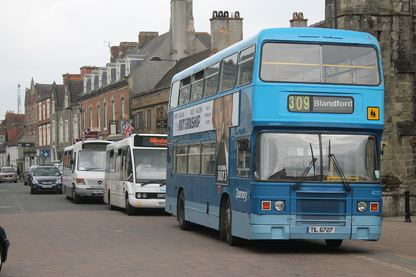bus: (164, 28, 389, 248), (101, 133, 169, 215), (62, 140, 117, 202)
car: (29, 164, 62, 194), (23, 166, 50, 185), (0, 226, 9, 273), (0, 166, 17, 183)
